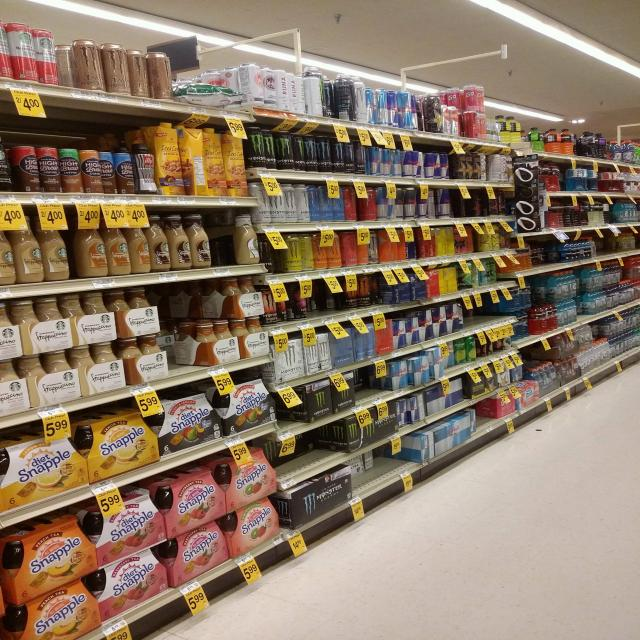empty: (355, 443, 424, 488), (199, 209, 236, 264)
